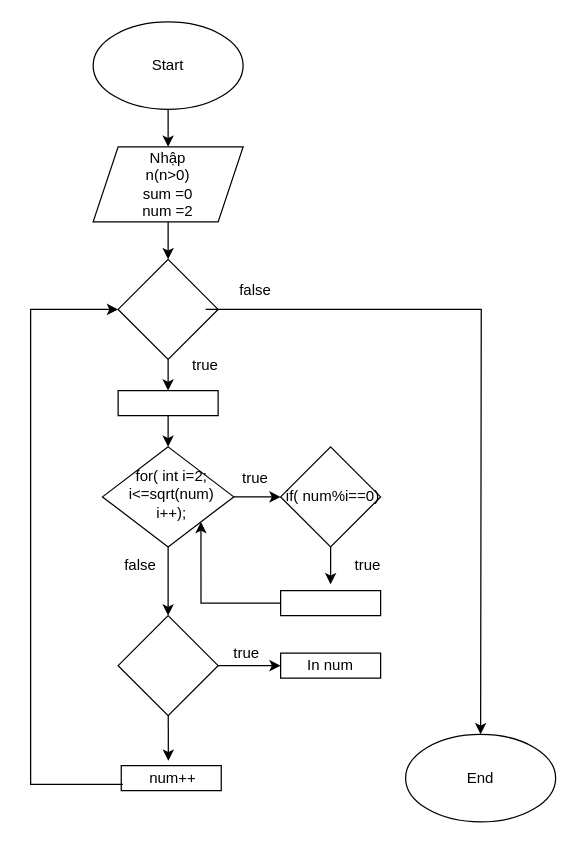
This 578x844 diagram has some shape labels left out. The shapes that lost their labels are listed below. From the top down, each one's box as (x1, y1, x2, y2) in pixels, then its label:
(117, 258, 218, 359): while( sum<n)
(117, 389, 218, 416): int count =0
(279, 589, 381, 616): count ++
(117, 614, 218, 716): if( count==0)
